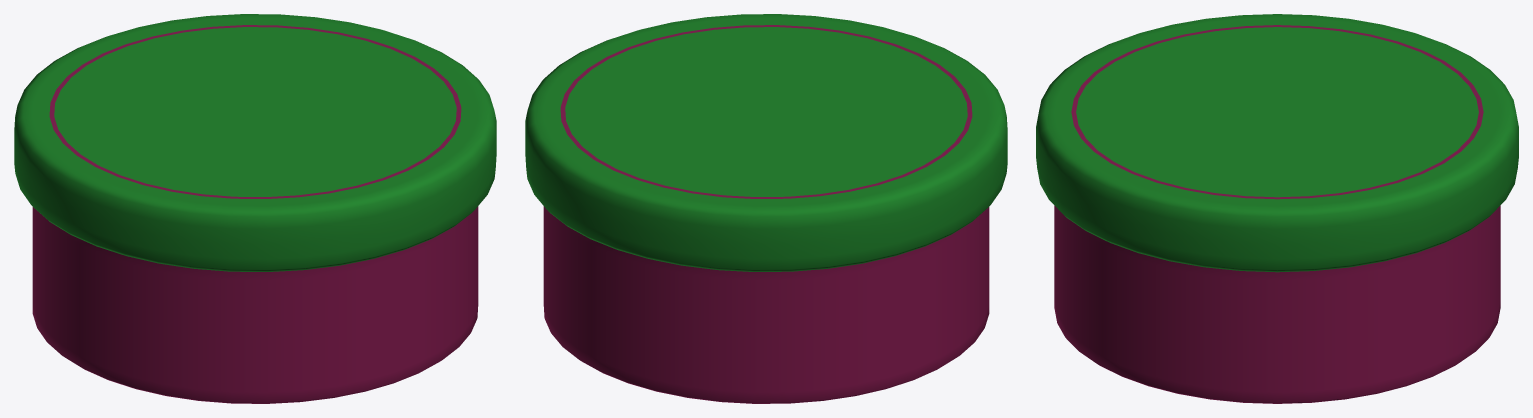
The model's file is ClockStand.fbx.
The picture shows the model from 3 angles, left to right: view 1: azimuth 30°, elevation 25°; view 2: azimuth 150°, elevation 25°; view 3: azimuth 270°, elevation 25°; orthographic projection.
Visible parts, largest first — view 1: ClockStand (×2); view 2: ClockStand (×2); view 3: ClockStand (×2).
Boxes of the visible parts, x1,y1,x2,y2 form: ClockStand (×2): [14, 14, 496, 403]; ClockStand (×2): [525, 14, 1007, 403]; ClockStand (×2): [1036, 14, 1518, 403].
Bounding box in the file's own units: 5.23 × 2.39 × 5.23.
